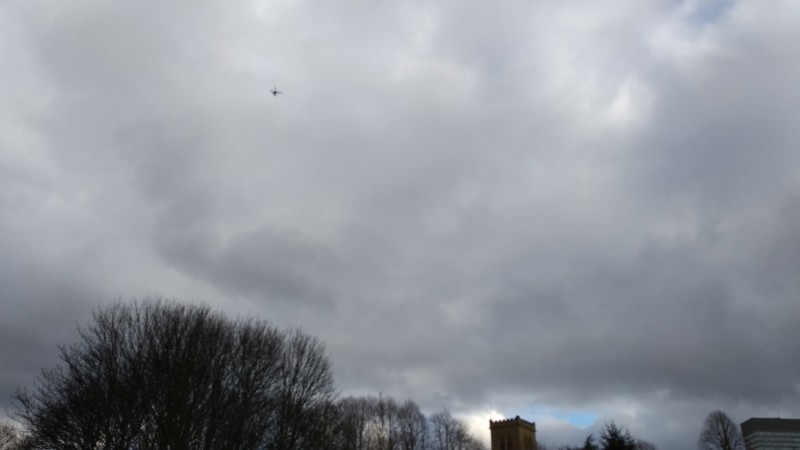drone: (270, 86, 280, 95)
